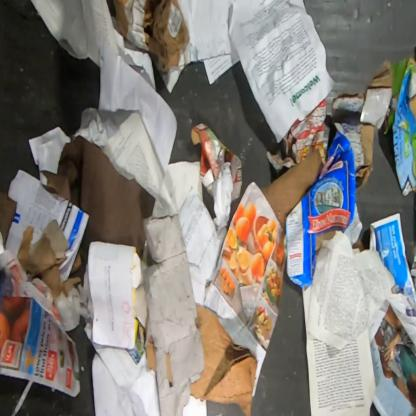cardboard: (285, 122, 375, 292), (142, 212, 206, 415), (331, 56, 415, 199), (5, 168, 90, 282), (191, 304, 259, 416), (111, 0, 190, 75), (259, 148, 324, 234), (16, 218, 83, 298), (190, 122, 243, 202), (146, 336, 156, 373)
